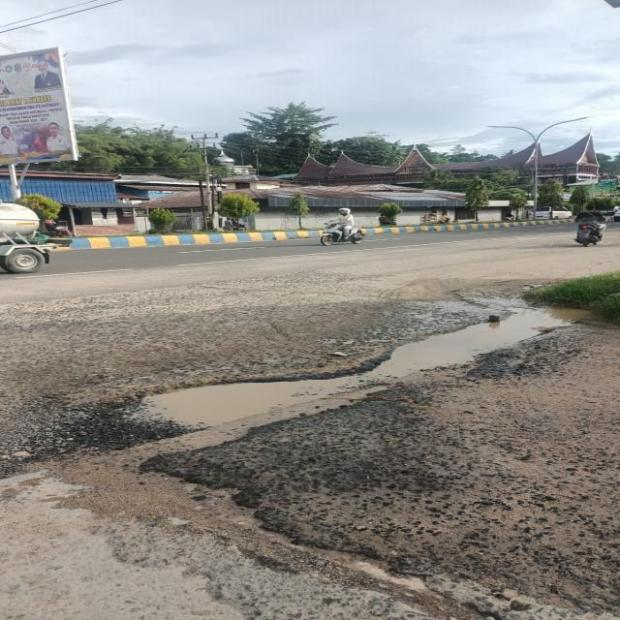lubang: (134, 298, 568, 453)
